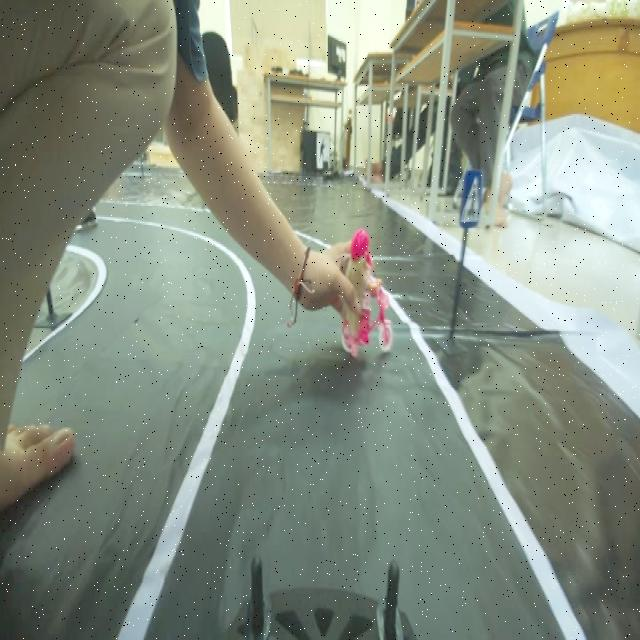crosswalk: (452, 167, 487, 246)
pedestrian: (335, 226, 397, 356)
